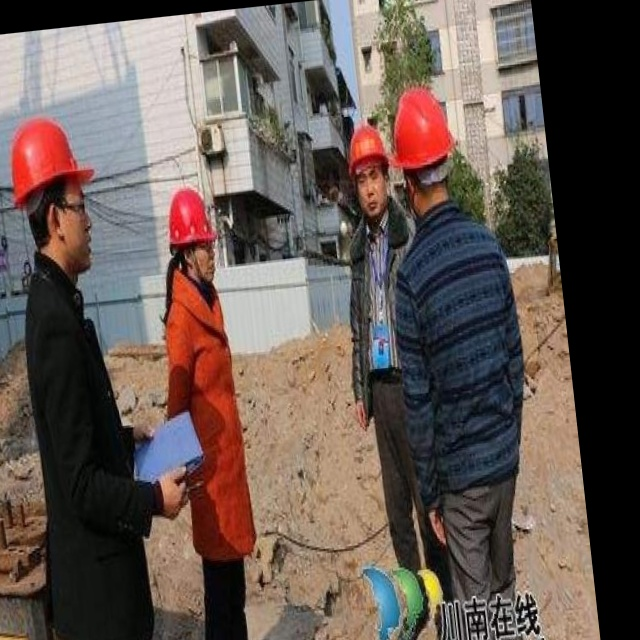Con_Casco: (6, 111, 93, 265), (165, 185, 223, 293)
Sin_Chaleco: (393, 216, 527, 489)
